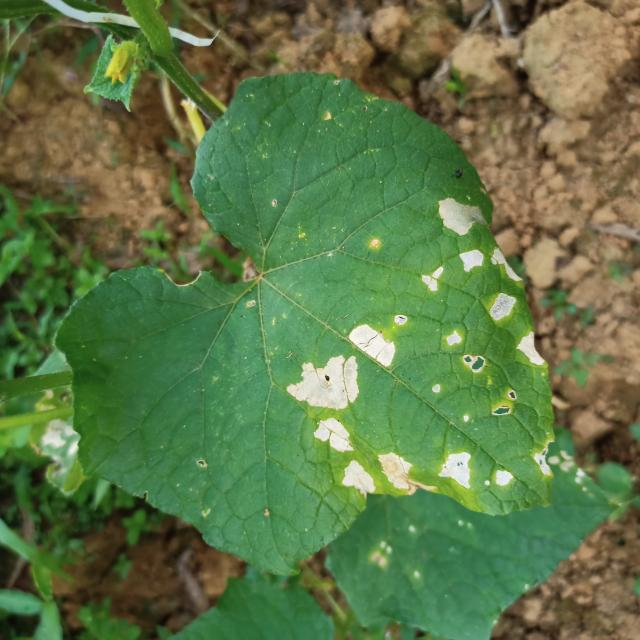disease_cucumber: (288, 324, 395, 409), (421, 195, 485, 290), (340, 454, 412, 498), (438, 451, 513, 492), (488, 246, 522, 331), (444, 325, 487, 376), (312, 416, 357, 454), (515, 331, 543, 368)
